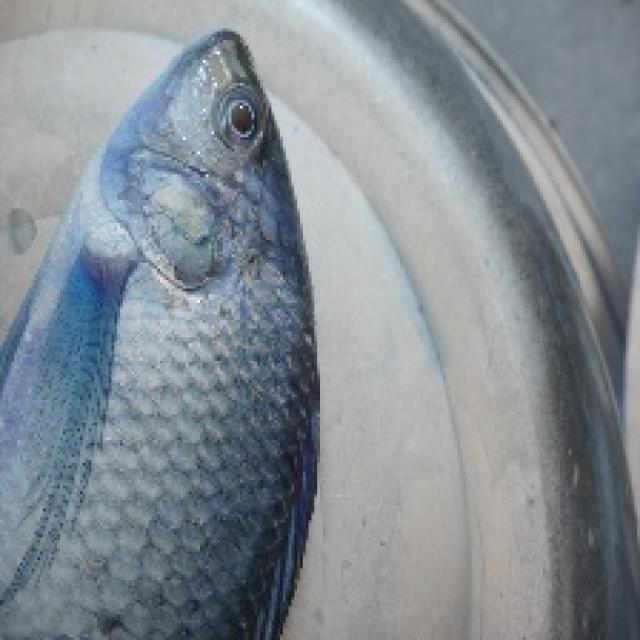Fresh: (6, 3, 414, 640)
